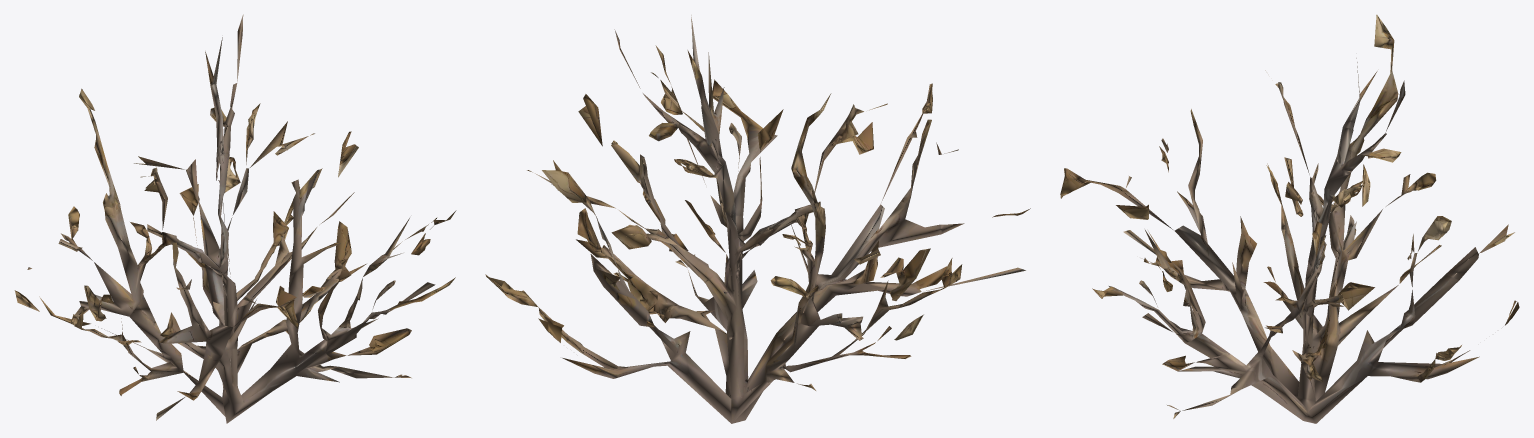
File: shrub.glb
The picture shows the model from 3 angles, left to right: view 1: azimuth 30°, elevation 25°; view 2: azimuth 150°, elevation 25°; view 3: azimuth 270°, elevation 25°; orthographic projection. The views are drawn at different scales.
Parts seen in each view (by area): view 1: tripo_node_de44d101-bbdb-47e1-97e3-ce0f389303fb; view 2: tripo_node_de44d101-bbdb-47e1-97e3-ce0f389303fb; view 3: tripo_node_de44d101-bbdb-47e1-97e3-ce0f389303fb.
Boxes of the visible parts, <box> form: tripo_node_de44d101-bbdb-47e1-97e3-ce0f389303fb: <box>14,14,456,423</box>; tripo_node_de44d101-bbdb-47e1-97e3-ce0f389303fb: <box>485,15,1030,423</box>; tripo_node_de44d101-bbdb-47e1-97e3-ce0f389303fb: <box>1060,14,1519,423</box>.
Size of the model in its own units: 0.8404 by 0.8688 by 0.9496.
Materials: 1 (1 with a texture image).
